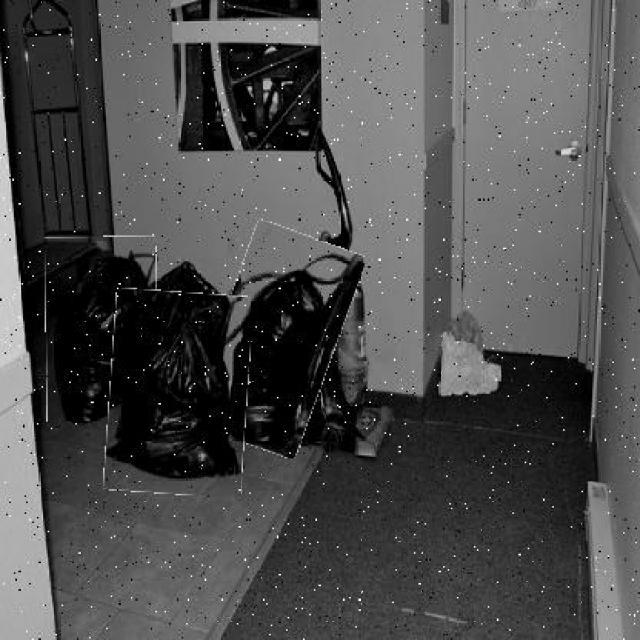waste: (202, 226, 351, 454), (106, 290, 249, 496), (45, 236, 158, 429)
